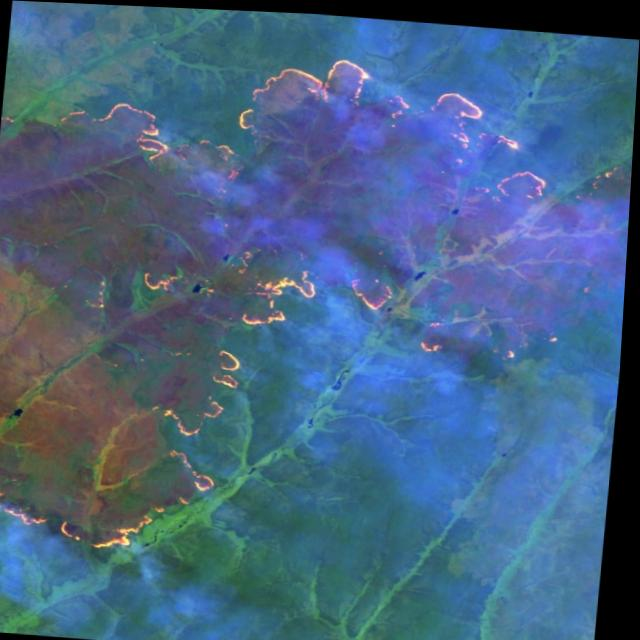fire: (0, 27, 639, 586)
